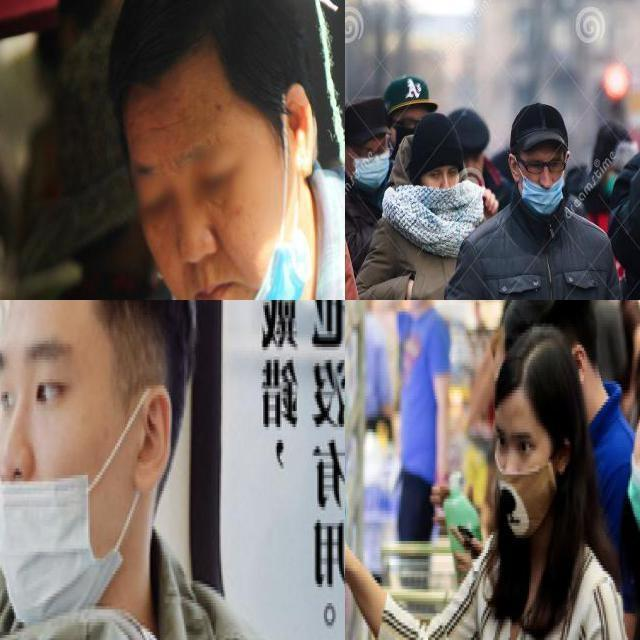hairnet: (0, 321, 195, 620), (130, 77, 345, 302), (492, 154, 586, 222)
mask: (484, 445, 566, 545)
no_gloves: (107, 1, 317, 147), (489, 322, 589, 439)
